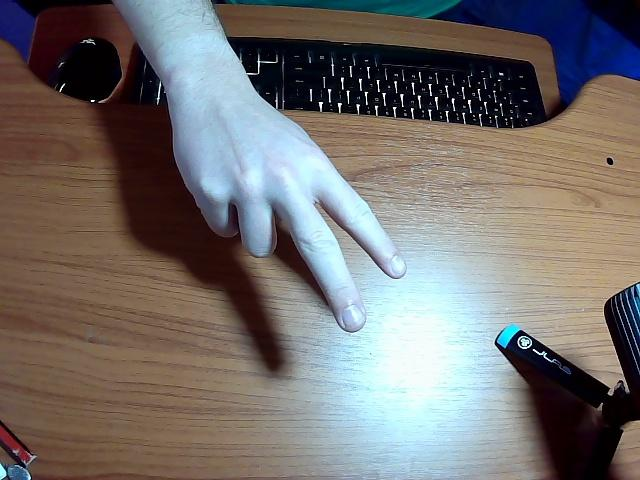scissors: (116, 0, 406, 331)
